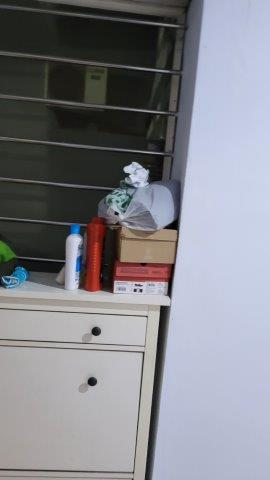kertas: (119, 162, 156, 186)
plastik: (98, 189, 190, 234)
